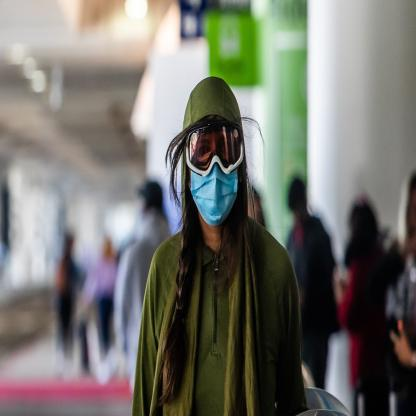oculos: (187, 124, 244, 171)
